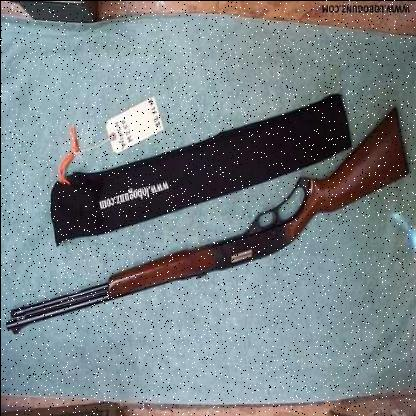rifle: (1, 95, 413, 353)
